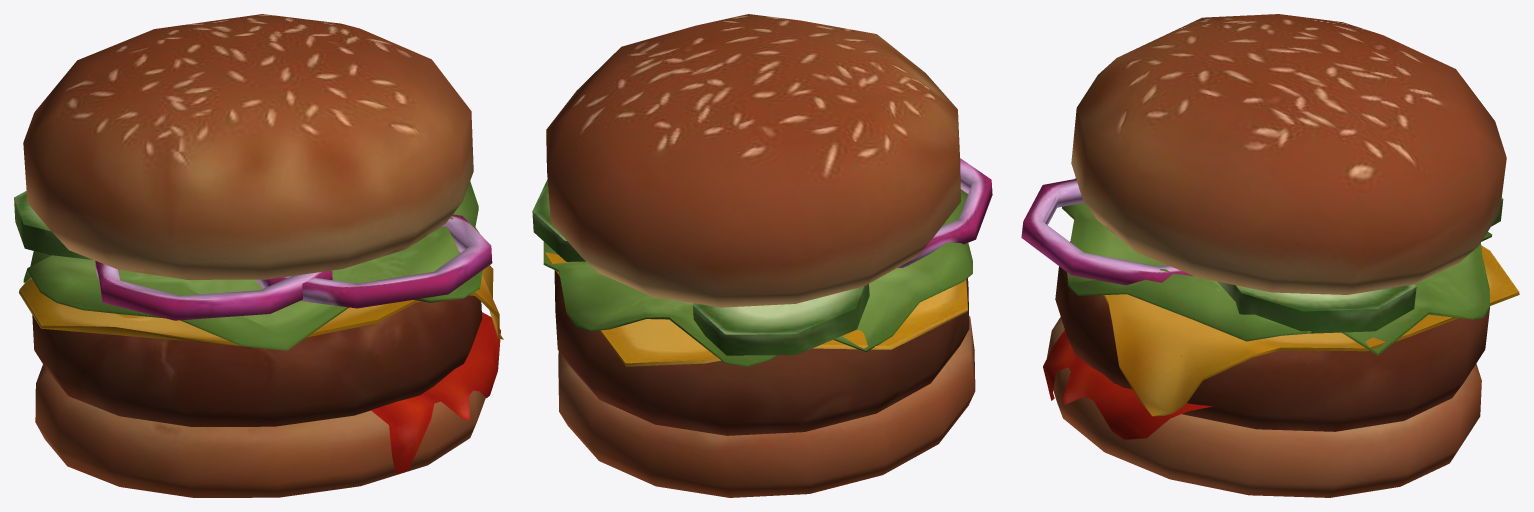
The model's file is burger.glb.
The picture shows the model from 3 angles, left to right: view 1: azimuth 30°, elevation 25°; view 2: azimuth 150°, elevation 25°; view 3: azimuth 270°, elevation 25°; orthographic projection. The views are drawn at different scales.
Parts seen in each view (by area): view 1: burgerall; view 2: burgerall; view 3: burgerall.
Boxes of the visible parts, x1,y1,x2,y2 form: burgerall: [14, 14, 503, 497]; burgerall: [532, 14, 992, 497]; burgerall: [1021, 14, 1519, 497].
Size of the model in its own units: 0.3592 by 0.3028 by 0.3691.
3 materials, 3 textured.
